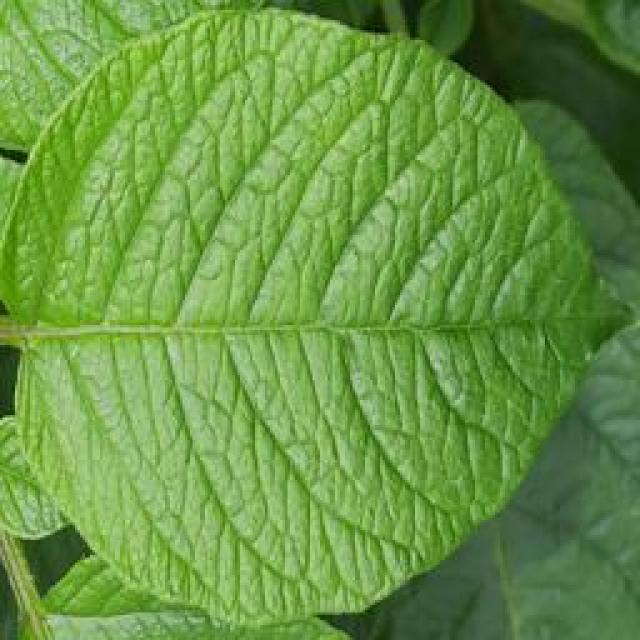healthy: (0, 2, 632, 629)
